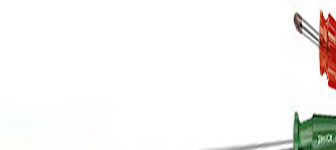Screwdriver: (156, 106, 336, 150), (281, 8, 336, 90)
